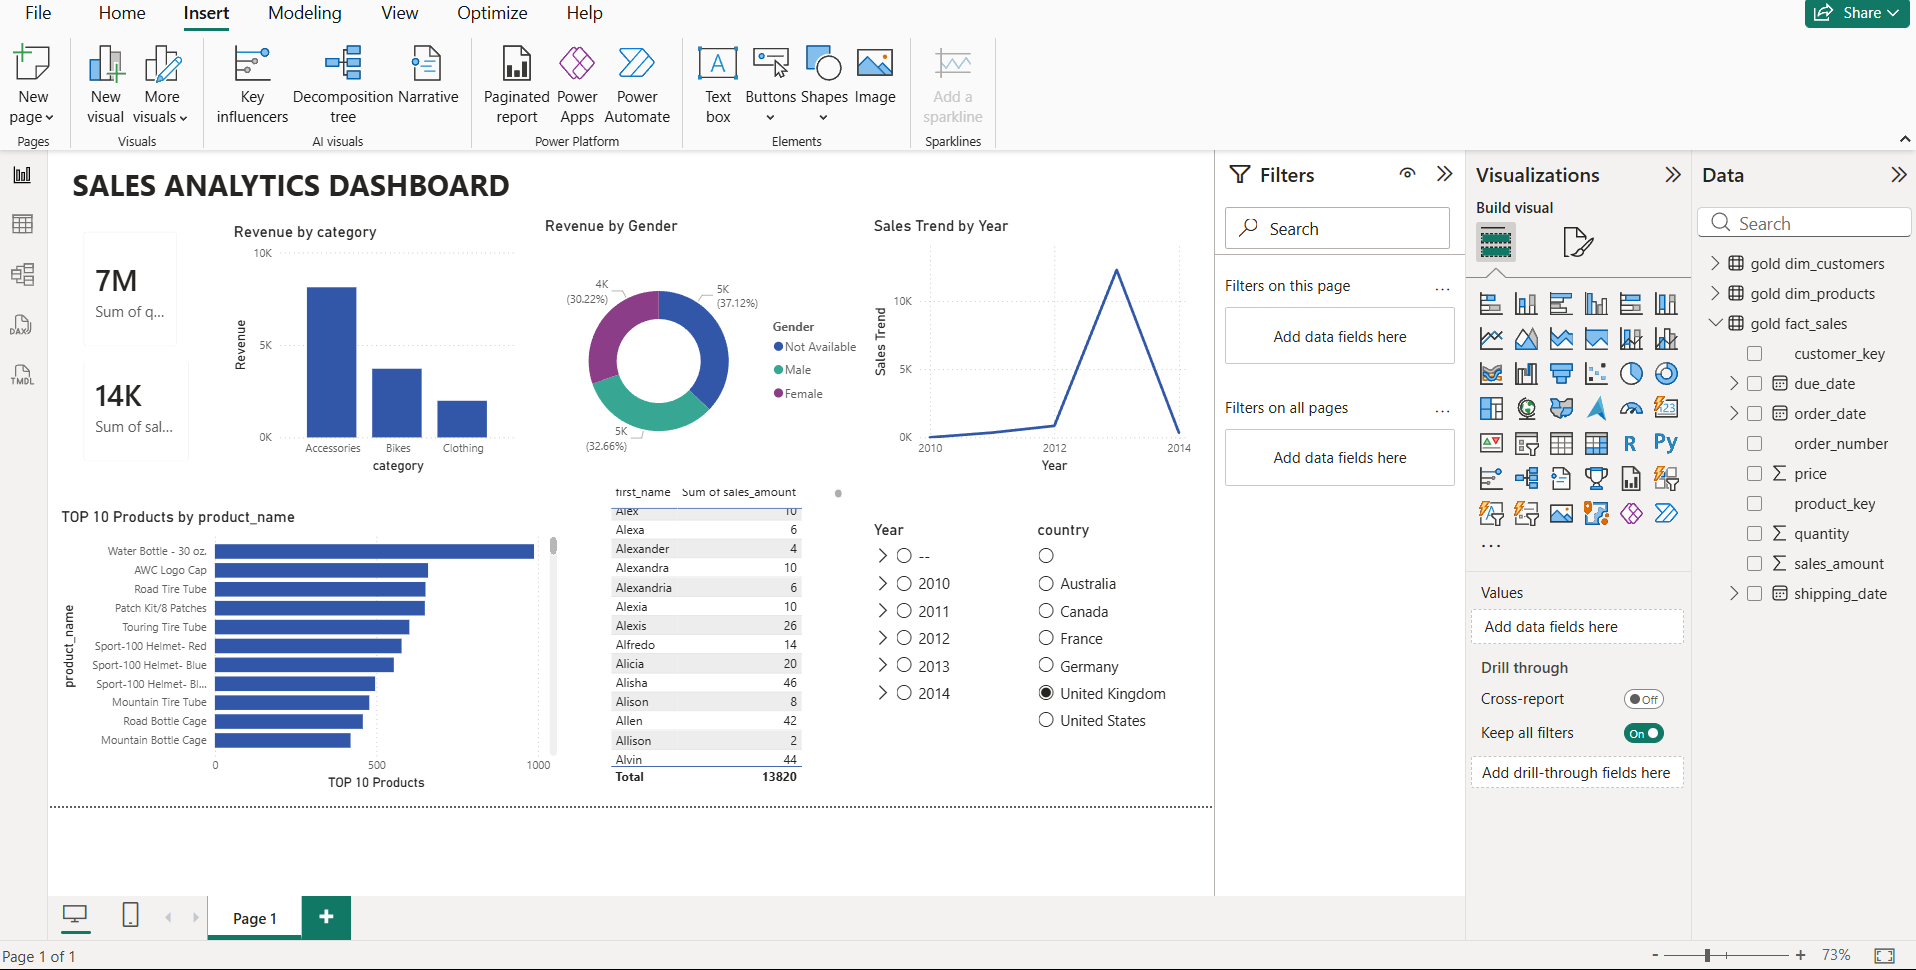

Layout of this report page (visuals, bound fields, positions):
{"tool":"powerbi","page":{"name":"Page 1","canvas":[1280,720],"ordinal":0},"visuals":[{"type":"cardVisual","fields":{"Data":["Sum(gold fact_sales.sales_amount)"]},"box":[22,199,150.9,160.5],"z":0},{"type":"columnChart","fields":{"Y":["Sum(gold fact_sales.sales_amount)"],"Category":["gold dim_products.category"]},"box":[199,79.6,319.7,279.9],"z":1000},{"type":"lineChart","fields":{"Category":["gold fact_sales.order_date.Variation.Date Hierarchy.Year","gold fact_sales.order_date.Variation.Date Hierarchy.Quarter","gold fact_sales.order_date.Variation.Date Hierarchy.Month","gold fact_sales.order_date.Variation.Date Hierarchy.Day"],"Y":["Sum(gold fact_sales.sales_amount)"]},"box":[901.5,72.7,358.1,286.8],"z":2000},{"type":"tableEx","fields":{"Values":["gold dim_customers.first_name","Sum(gold fact_sales.sales_amount)"]},"box":[612,359.5,264.8,343.1],"z":3000},{"type":"donutChart","fields":{"Category":["gold dim_customers.gender"],"Y":["Sum(gold fact_sales.sales_amount)"]},"box":[540.7,72.7,360.9,299.1],"z":4000},{"type":"cardVisual","fields":{"Data":["Sum(gold fact_sales.quantity)"]},"box":[22,72.7,137.2,160.5],"z":5000},{"type":"clusteredBarChart","fields":{"Category":["gold dim_products.product_name"],"Y":["Sum(gold fact_sales.sales_amount)"]},"box":[9.6,392.5,554.4,315.6],"z":6000},{"type":"listSlicer","fields":{"Values":["gold dim_customers.country"]},"box":[1081.3,406.2,179.8,285.4],"z":7000},{"type":"textbox","box":[9.6,11,97.4,61.7],"z":8000},{"type":"textbox","box":[22,11,509.1,61.7],"z":9000},{"type":"listSlicer","fields":{"Values":["gold fact_sales.order_date.Variation.Date Hierarchy.Year","gold fact_sales.order_date.Variation.Date Hierarchy.Quarter","gold fact_sales.order_date.Variation.Date Hierarchy.Month","gold fact_sales.order_date.Variation.Date Hierarchy.Day"]},"box":[901.5,406.2,153.7,260.7],"z":9001}]}

Visuals, with their boxes on the page's 1280x720 design canvas (x1, y1, x2, y2). These are canvas units, not pixel positions in the 1916x970 screenshot, which may show the page scaled, cropped or inside an application window:
cardVisual - Sum(gold fact_sales.sales_amount): crop(22, 199, 173, 360)
columnChart - Sum(gold fact_sales.sales_amount) x gold dim_products.category: crop(199, 80, 519, 360)
lineChart - gold fact_sales.order_date.Variation.Date Hierarchy.Year x gold fact_sales.order_date.Variation.Date Hierarchy.Quarter: crop(902, 73, 1260, 360)
tableEx - gold dim_customers.first_name x Sum(gold fact_sales.sales_amount): crop(612, 360, 877, 703)
donutChart - gold dim_customers.gender x Sum(gold fact_sales.sales_amount): crop(541, 73, 902, 372)
cardVisual - Sum(gold fact_sales.quantity): crop(22, 73, 159, 233)
clusteredBarChart - gold dim_products.product_name x Sum(gold fact_sales.sales_amount): crop(10, 392, 564, 708)
listSlicer - gold dim_customers.country: crop(1081, 406, 1261, 692)
textbox: crop(10, 11, 107, 73)
textbox: crop(22, 11, 531, 73)
listSlicer - gold fact_sales.order_date.Variation.Date Hierarchy.Year x gold fact_sales.order_date.Variation.Date Hierarchy.Quarter: crop(902, 406, 1055, 667)
